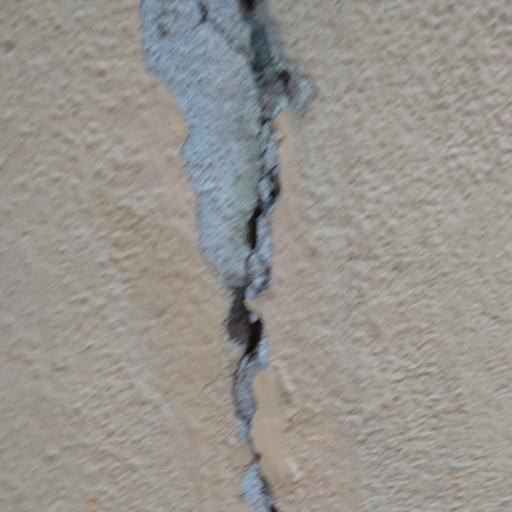peeling: (118, 0, 335, 512)
